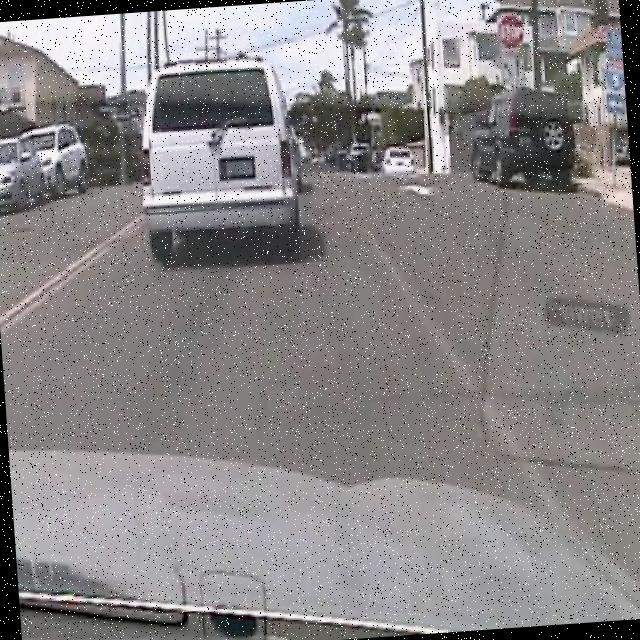Stop: (492, 8, 526, 56)
